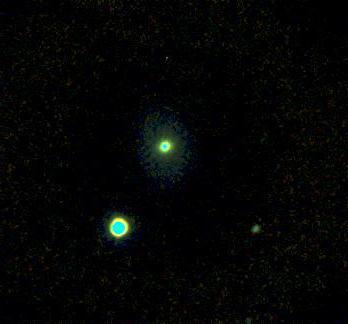star: (149, 44, 179, 74)
